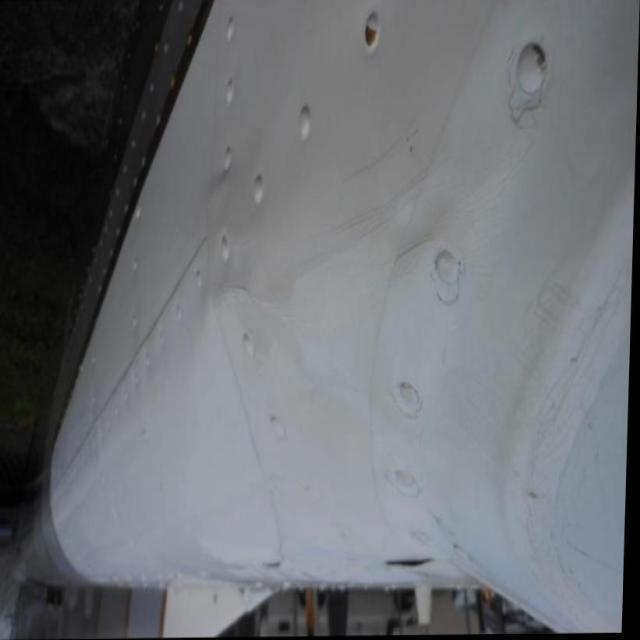Dent: (360, 182, 467, 282), (215, 282, 317, 381)
